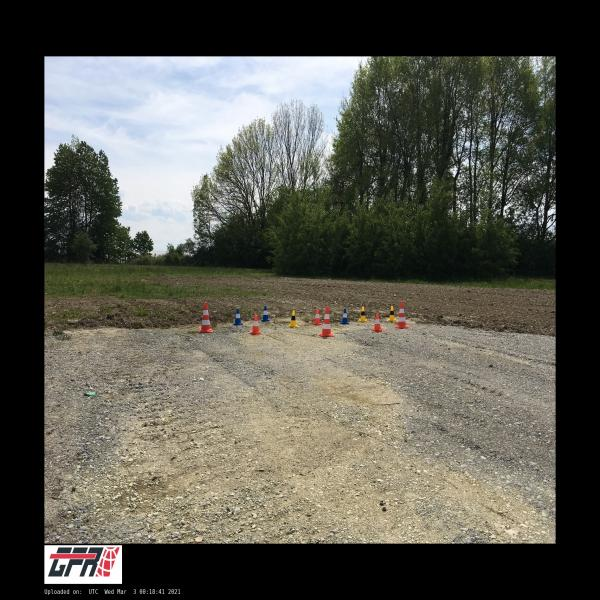blue_cone: (232, 308, 242, 326), (340, 308, 349, 324), (261, 306, 270, 321)
large_orange_cone: (199, 301, 213, 332), (320, 306, 334, 337), (395, 302, 409, 328)
orange_cone: (248, 315, 262, 335), (372, 313, 383, 332), (313, 309, 321, 325)
yellow_cone: (288, 310, 299, 327), (358, 307, 367, 322), (387, 306, 396, 321)
